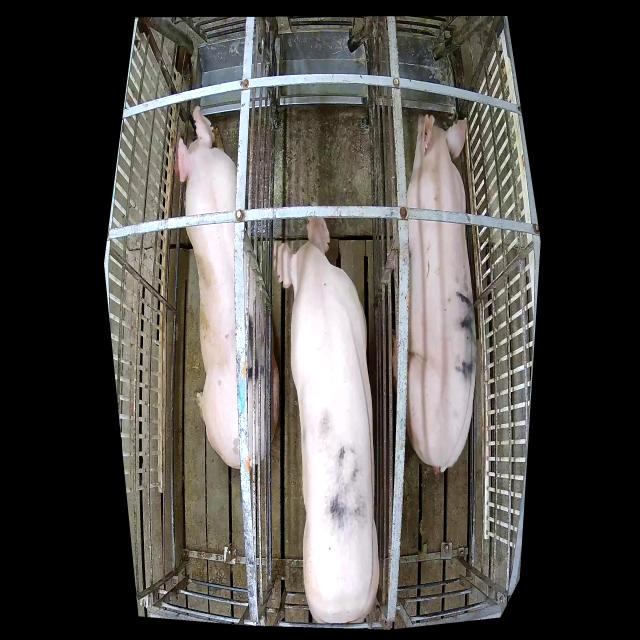pig: (273, 216, 379, 623), (174, 107, 279, 467), (406, 115, 476, 476)
